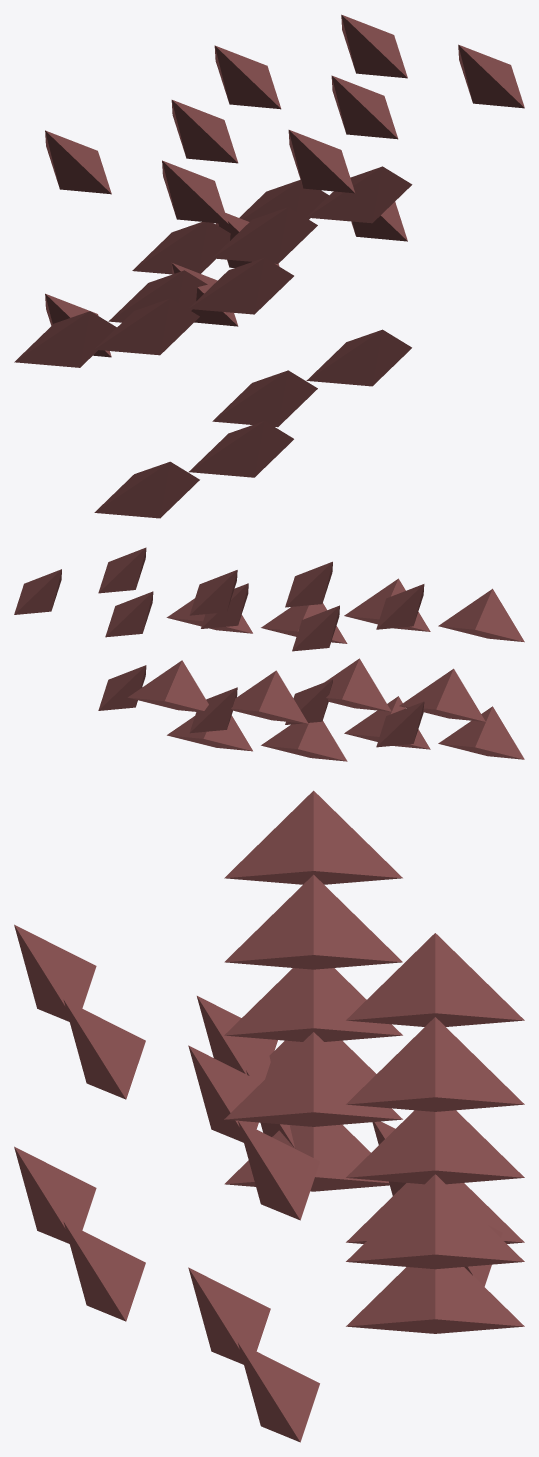
The model's file is PLAGA2.obj.
The picture shows the model from 3 angles, top to bottom: view 1: azimuth 30°, elevation 25°; view 2: azimuth 150°, elevation 25°; view 3: azimuth 270°, elevation 25°; orthographic projection. The views are drawn at different scales.
Visible parts, largest first — view 1: pasted__pasted__pPyramid4; view 2: pasted__pasted__pPyramid4; view 3: pasted__pasted__pPyramid4.
Part boxes in pixels (x1,y1,x2,y2): pasted__pasted__pPyramid4: (14,14,524,518); pasted__pasted__pPyramid4: (14,547,524,761); pasted__pasted__pPyramid4: (14,790,524,1442).
Bounding box in the file's own units: 3 × 1.59 × 1.71.
